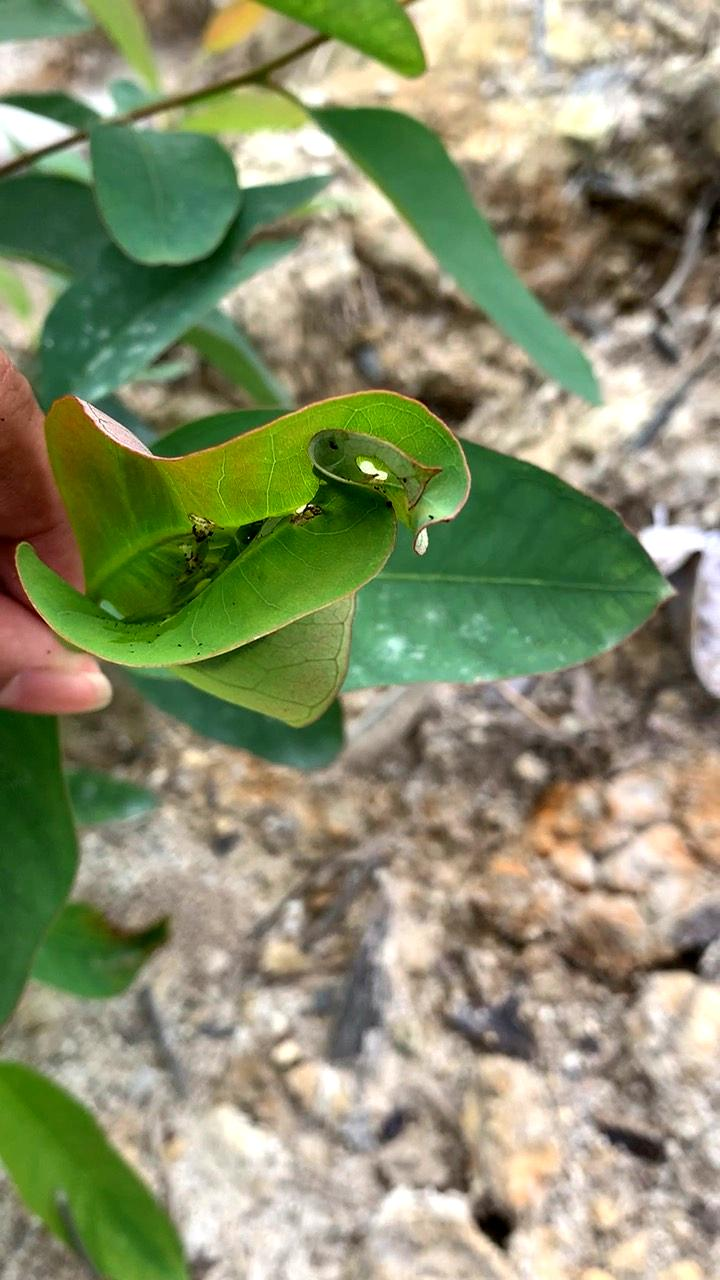Leaf Roller - Leaf: (0, 348, 516, 790)
